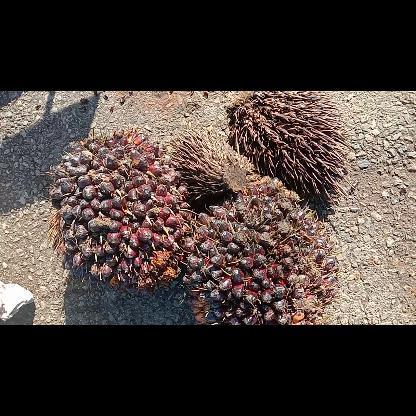Janjang kosong: (226, 91, 356, 205), (166, 127, 256, 198)
TBS mentah: (47, 127, 196, 288), (182, 176, 340, 324)
